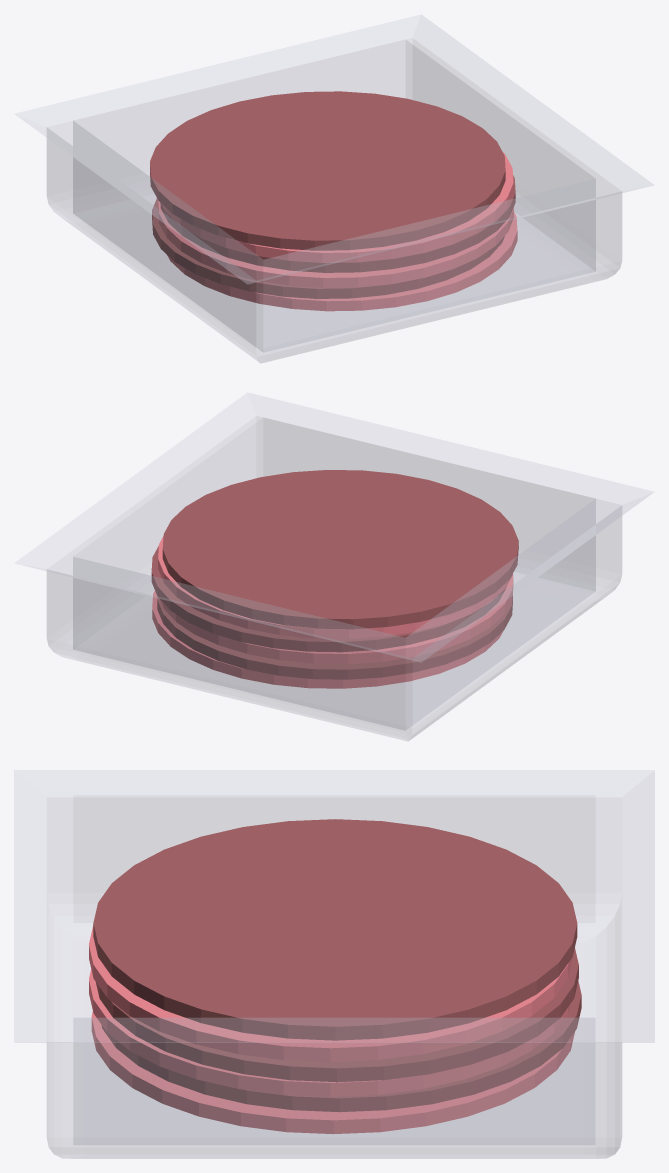
Rendered from poelse.fbx.
The picture shows the model from 3 angles, top to bottom: view 1: azimuth 30°, elevation 25°; view 2: azimuth 150°, elevation 25°; view 3: azimuth 270°, elevation 25°; orthographic projection. The views are drawn at different scales.
Parts seen in each view (by area): view 1: plast_tray, sausage5, sausage2, sausage4, sausage0, sausage1, sausage3; view 2: plast_tray, sausage5, sausage1, sausage3, sausage2, sausage4, sausage0; view 3: plast_tray, sausage5, sausage0, sausage4, sausage3, sausage1, sausage2.
Part boxes in pixels (<box>): plast_tray: <box>15,14,653,363</box>; sausage5: <box>150,91,505,250</box>; sausage2: <box>158,201,513,287</box>; sausage4: <box>161,152,513,262</box>; sausage0: <box>167,212,517,311</box>; sausage1: <box>152,199,504,298</box>; sausage3: <box>160,175,515,272</box>; plast_tray: <box>15,392,653,741</box>; sausage5: <box>162,470,518,629</box>; sausage1: <box>157,596,512,679</box>; sausage3: <box>151,546,506,652</box>; sausage2: <box>160,575,513,663</box>; sausage4: <box>158,536,512,638</box>; sausage0: <box>152,591,502,688</box>; plast_tray: <box>14,770,654,1158</box>; sausage5: <box>93,819,577,1040</box>; sausage0: <box>91,1011,574,1134</box>; sausage4: <box>89,926,572,1061</box>; sausage3: <box>96,948,578,1082</box>; sausage1: <box>101,981,581,1112</box>; sausage2: <box>89,969,569,1096</box>.
Size of the model in its own units: 563 by 137 by 559.
